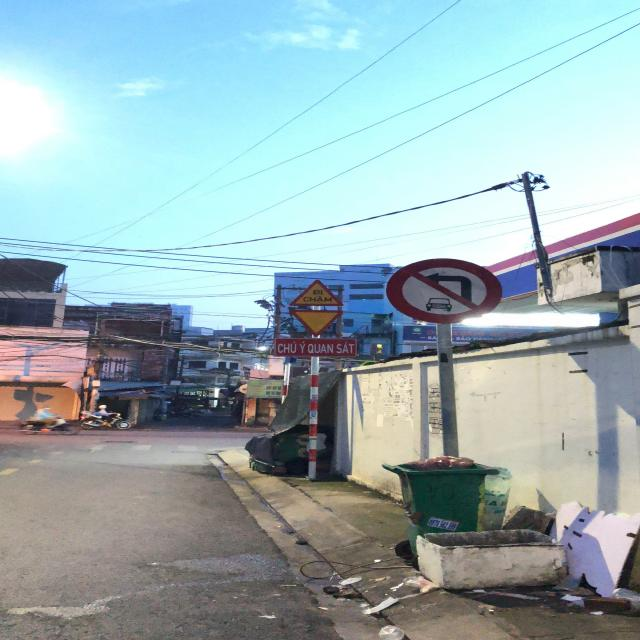Bien bao cam xe o to re trai: (382, 254, 507, 323)
Bien bao di cham: (286, 275, 350, 306)
Bien bao giao nhau voi duong uu tien: (287, 307, 352, 337)
